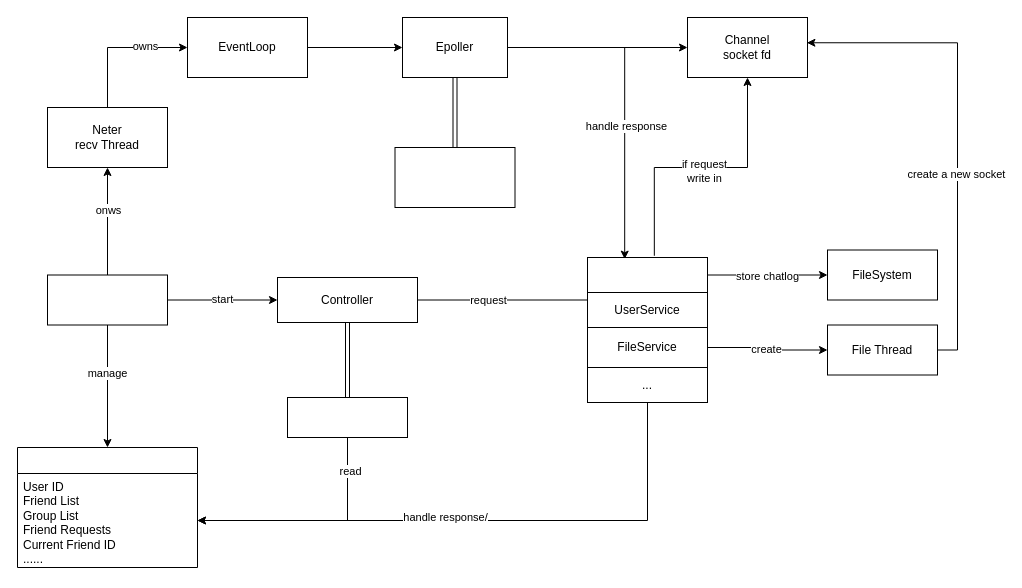
This 1022x588 diagram has some shape labels left out. The shapes that lost their labels are listed below. From the top down, each one's box as (x1, y1, x2, y2) in pixels, then its label:
(394, 146, 515, 208): ::epoll_wait
(586, 256, 708, 292): ChatService
(46, 274, 168, 325): Client Main Thread
(286, 396, 408, 438): UI
(16, 446, 198, 568): User Data
